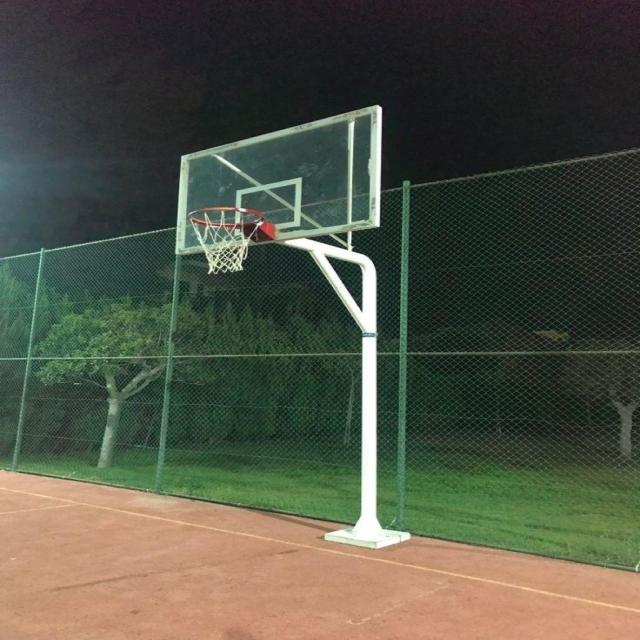hoop: (170, 199, 291, 283)
